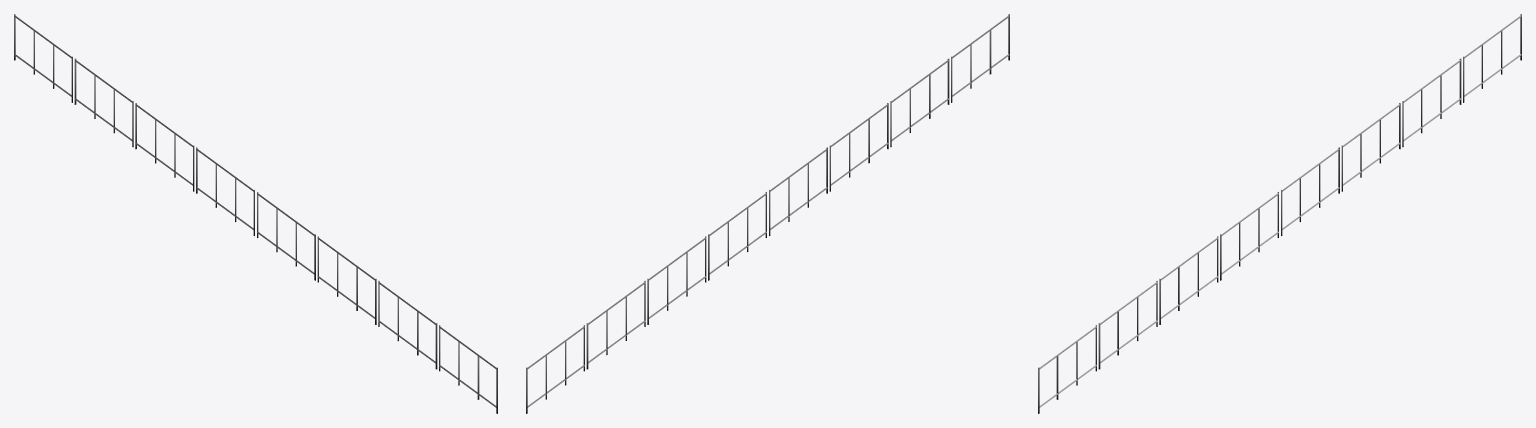
Rendered from AMI.glb.
3 views of the same model, side by side, from view 1: azimuth 30°, elevation 25°; view 2: azimuth 150°, elevation 25°; view 3: azimuth 330°, elevation 25° (orthographic).
Parts seen in each view (by area): view 1: obj25, obj20, obj26, obj24, obj21, obj19, obj23, obj22; view 2: obj25, obj20, obj26, obj21, obj24, obj19, obj23, obj22; view 3: obj25, obj20, obj26, obj24, obj21, obj19, obj23, obj22.
Boxes of the visible parts, x1,y1,x2,y2 form: obj25: (378, 280, 437, 369); obj20: (74, 58, 133, 147); obj26: (439, 325, 497, 413); obj24: (317, 236, 376, 324); obj21: (135, 103, 194, 191); obj19: (14, 14, 72, 102); obj23: (257, 192, 315, 280); obj22: (196, 147, 254, 235); obj25: (890, 58, 949, 147); obj20: (586, 280, 645, 369); obj26: (951, 14, 1009, 102); obj21: (647, 236, 706, 324); obj24: (829, 103, 888, 191); obj19: (526, 325, 584, 413); obj23: (769, 147, 827, 235); obj22: (708, 192, 766, 280); obj25: (1098, 280, 1157, 369); obj20: (1402, 58, 1461, 147); obj26: (1038, 325, 1096, 413); obj24: (1159, 236, 1218, 324); obj21: (1341, 103, 1400, 191); obj19: (1463, 14, 1521, 102); obj23: (1220, 192, 1278, 280); obj22: (1281, 147, 1339, 235).
Size of the model in its own units: 0.1732 by 5.21 by 99.65.
Materials: 8 (8 with a texture image).
